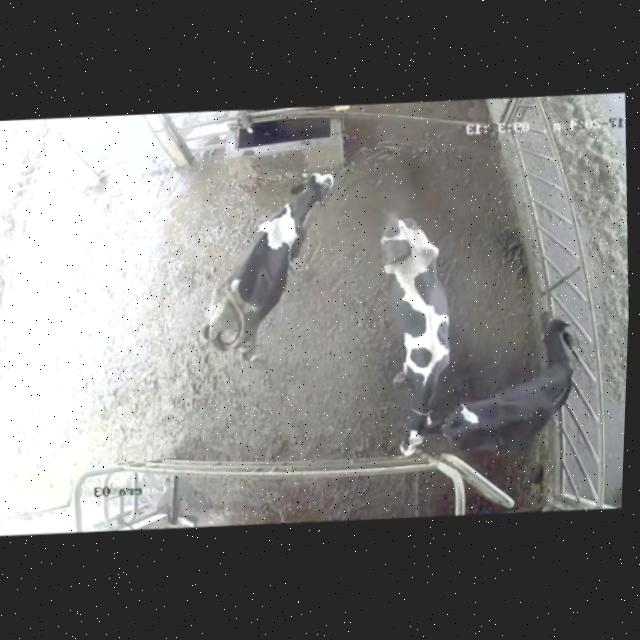stand: (184, 164, 346, 383), (365, 200, 462, 459), (437, 314, 584, 465)
